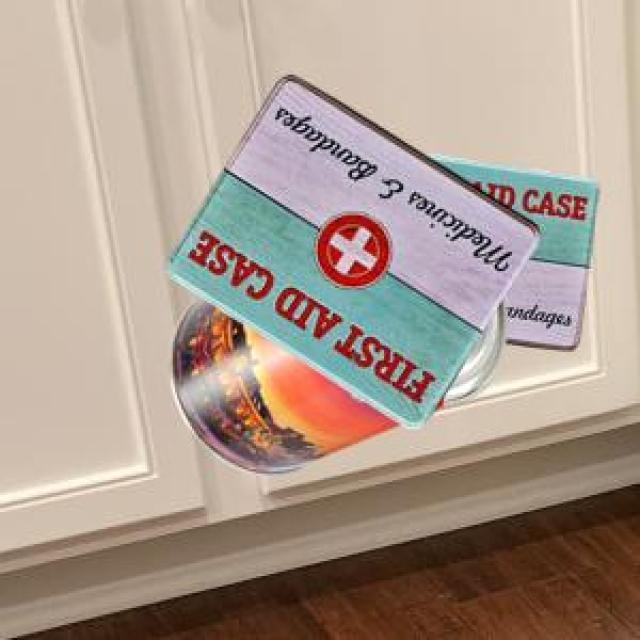Can: (167, 293, 505, 470), (425, 153, 596, 347)
